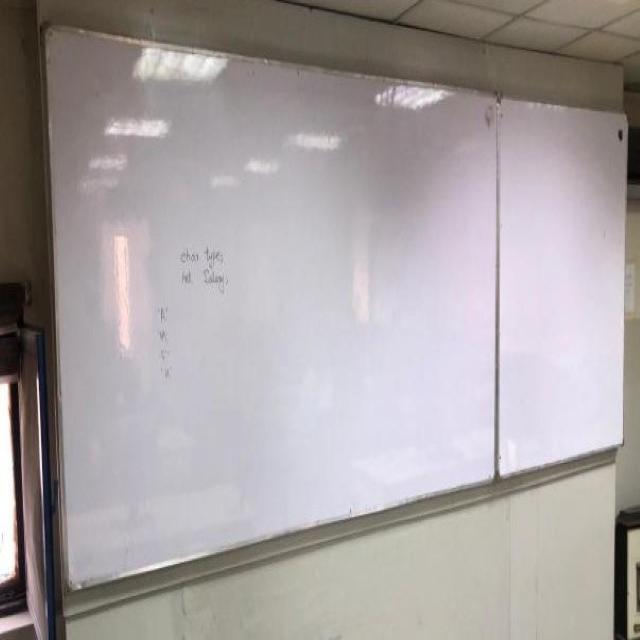White-board: (44, 26, 629, 597)
